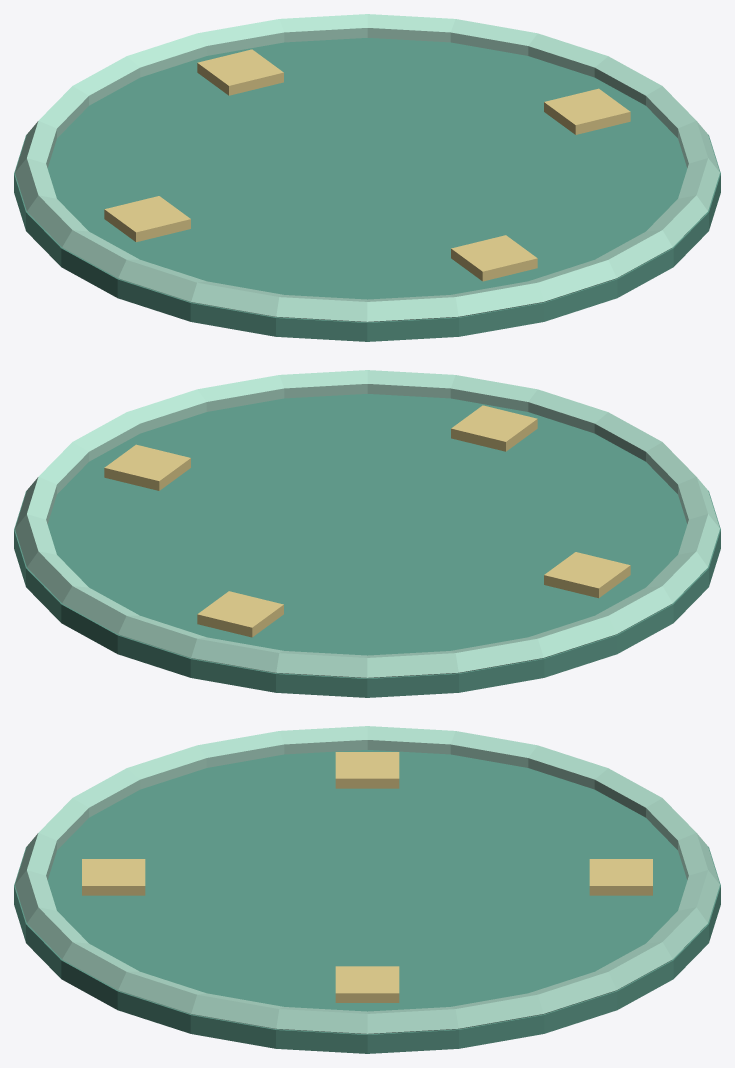
File: marca_salida.glb
The picture shows the model from 3 angles, top to bottom: view 1: azimuth 30°, elevation 25°; view 2: azimuth 150°, elevation 25°; view 3: azimuth 270°, elevation 25°; orthographic projection.
Parts seen in each view (by area): view 1: marca_salida; view 2: marca_salida; view 3: marca_salida.
Boxes of the visible parts, left/top/right/bottom form: marca_salida: left=14, top=14, right=720, bottom=341; marca_salida: left=14, top=370, right=720, bottom=697; marca_salida: left=14, top=726, right=720, bottom=1053.
Bounding box in the file's own units: 0.78 × 0.0421 × 0.78.
